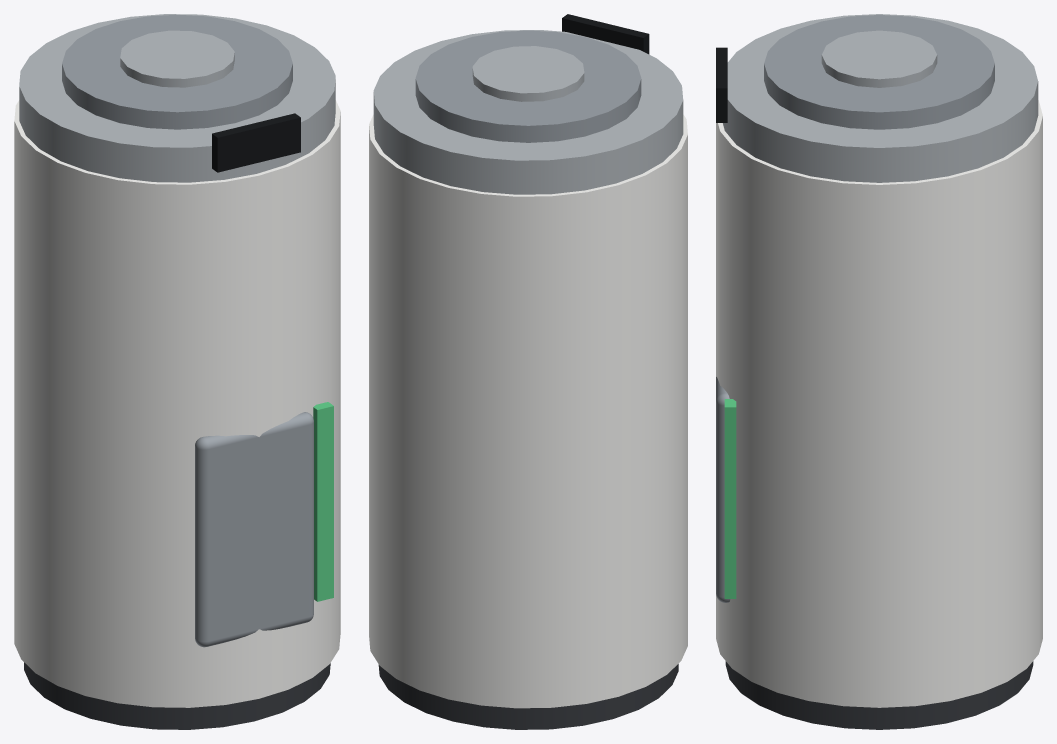
Rendered from airpurifier.glb.
The picture shows the model from 3 angles, left to right: view 1: azimuth 30°, elevation 25°; view 2: azimuth 150°, elevation 25°; view 3: azimuth 270°, elevation 25°; orthographic projection. The views are drawn at different scales.
Visible parts, largest first — view 1: material-0-body, material-2-grating, material-3-trim, material-1-base, material-5-lit, material-4-screen; view 2: material-0-body, material-3-trim, material-2-grating, material-1-base, material-4-screen; view 3: material-0-body, material-3-trim, material-2-grating, material-1-base, material-5-lit, material-4-screen.
Boxes of the visible parts, left/top/right/bottom form: material-0-body: left=14, top=100, right=340, bottom=707; material-2-grating: left=62, top=14, right=313, bottom=647; material-3-trim: left=19, top=14, right=335, bottom=182; material-1-base: left=24, top=662, right=330, bottom=729; material-5-lit: left=313, top=402, right=333, bottom=601; material-4-screen: left=212, top=113, right=300, bottom=172; material-0-body: left=369, top=114, right=687, bottom=708; material-3-trim: left=373, top=30, right=683, bottom=194; material-2-grating: left=415, top=30, right=641, bottom=142; material-1-base: left=378, top=664, right=678, bottom=729; material-4-screen: left=562, top=14, right=649, bottom=54; material-0-body: left=716, top=100, right=1042, bottom=707; material-3-trim: left=723, top=14, right=1038, bottom=182; material-2-grating: left=716, top=15, right=994, bottom=602; material-1-base: left=725, top=661, right=1033, bottom=729; material-5-lit: left=724, top=399, right=736, bottom=598; material-4-screen: left=716, top=47, right=727, bottom=122.
Size of the model in its own units: 0.34 by 0.7 by 0.34.
